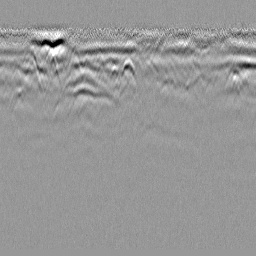cavity: (118, 56, 138, 87)
